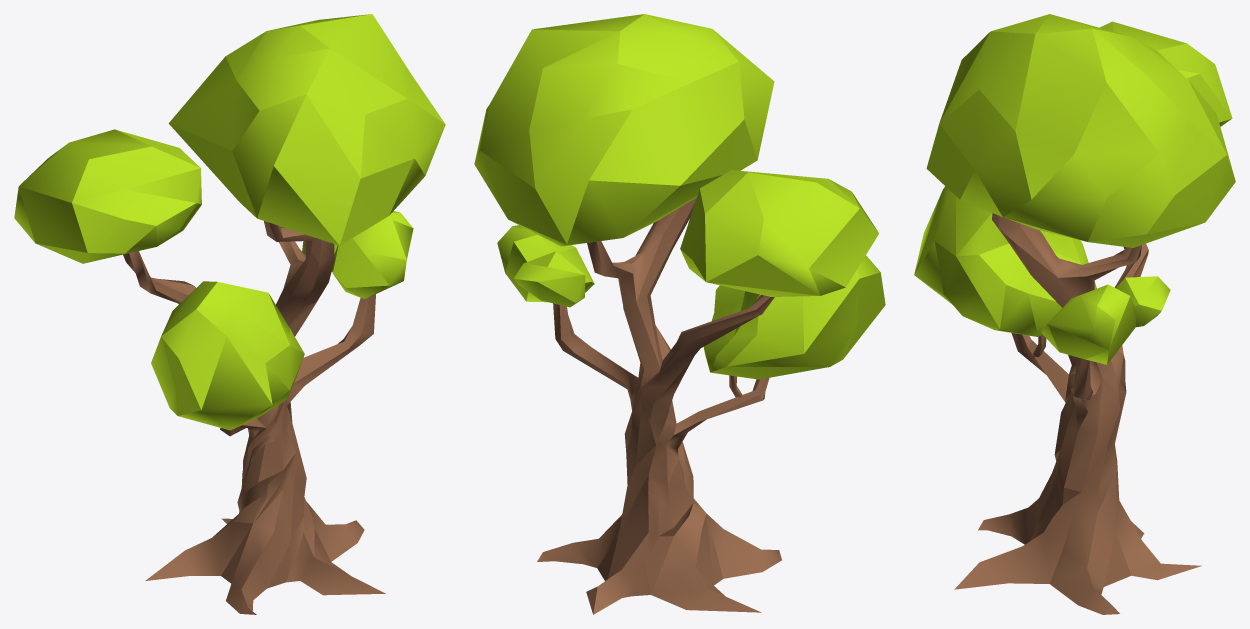
The model's file is tree003.gltf.
3 renders of one model, left to right at view 1: azimuth 30°, elevation 25°; view 2: azimuth 150°, elevation 25°; view 3: azimuth 270°, elevation 25°, orthographic. The views are drawn at different scales.
Visible parts, largest first — view 1: node_tree003_-170166; view 2: node_tree003_-170166; view 3: node_tree003_-170166.
Boxes of the visible parts, x1,y1,x2,y2 form: node_tree003_-170166: (14, 14, 445, 614); node_tree003_-170166: (474, 14, 885, 614); node_tree003_-170166: (914, 14, 1235, 614).
Size of the model in its own units: 2.87 by 3.95 by 2.08.
